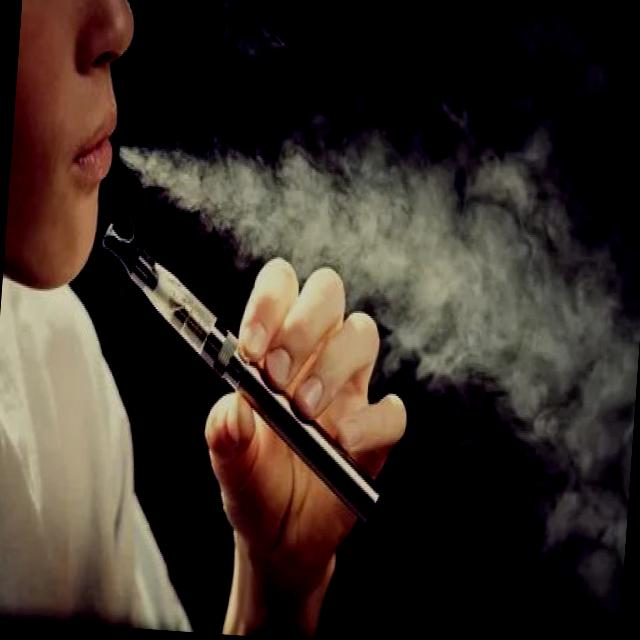smoke: (81, 218, 400, 528)
